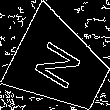N_SE: (32, 36, 89, 96)
